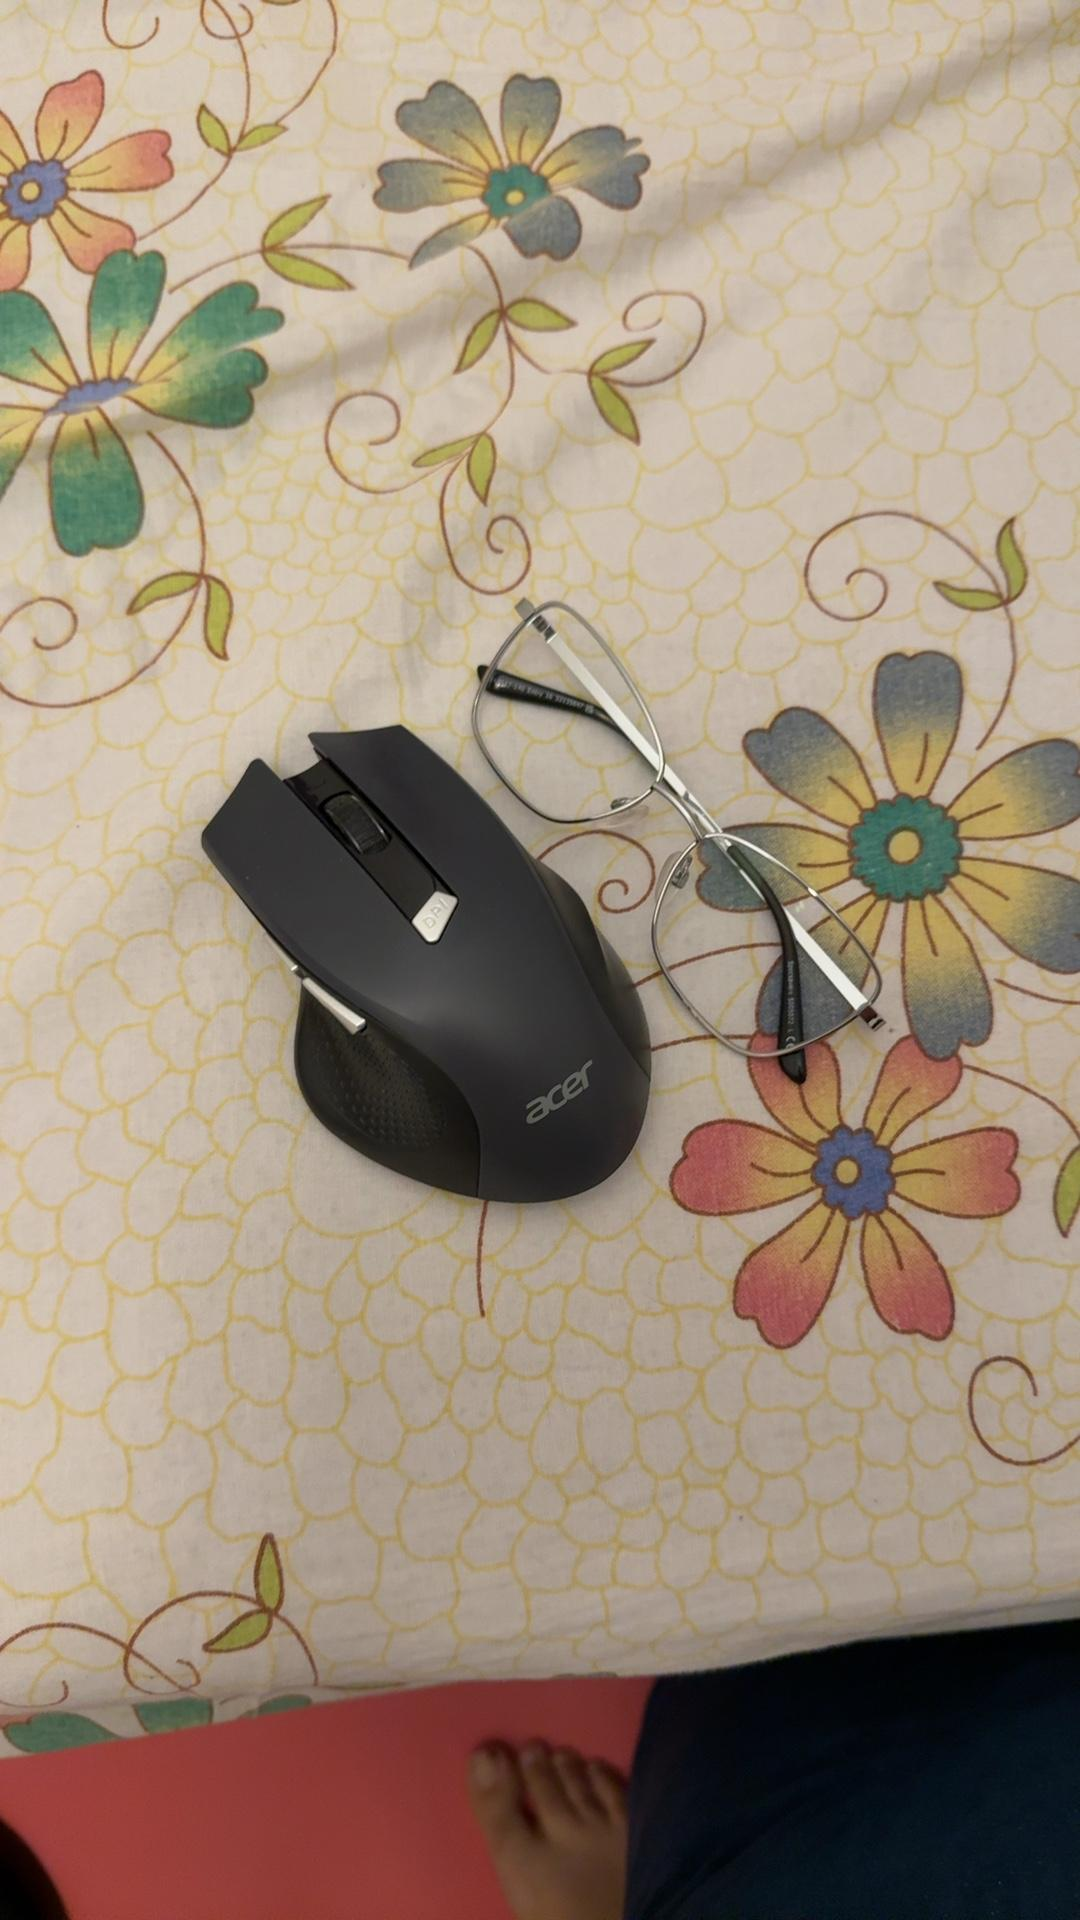Aulaf75: (148, 715, 650, 1212)
